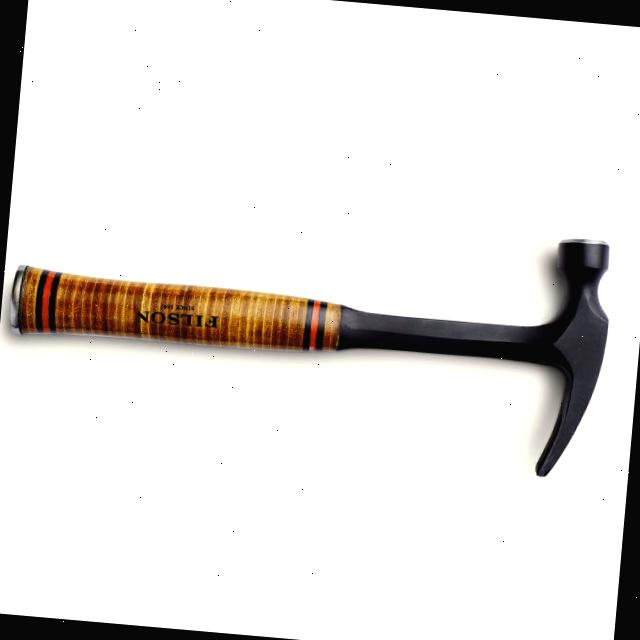hammer: (0, 177, 623, 486)
